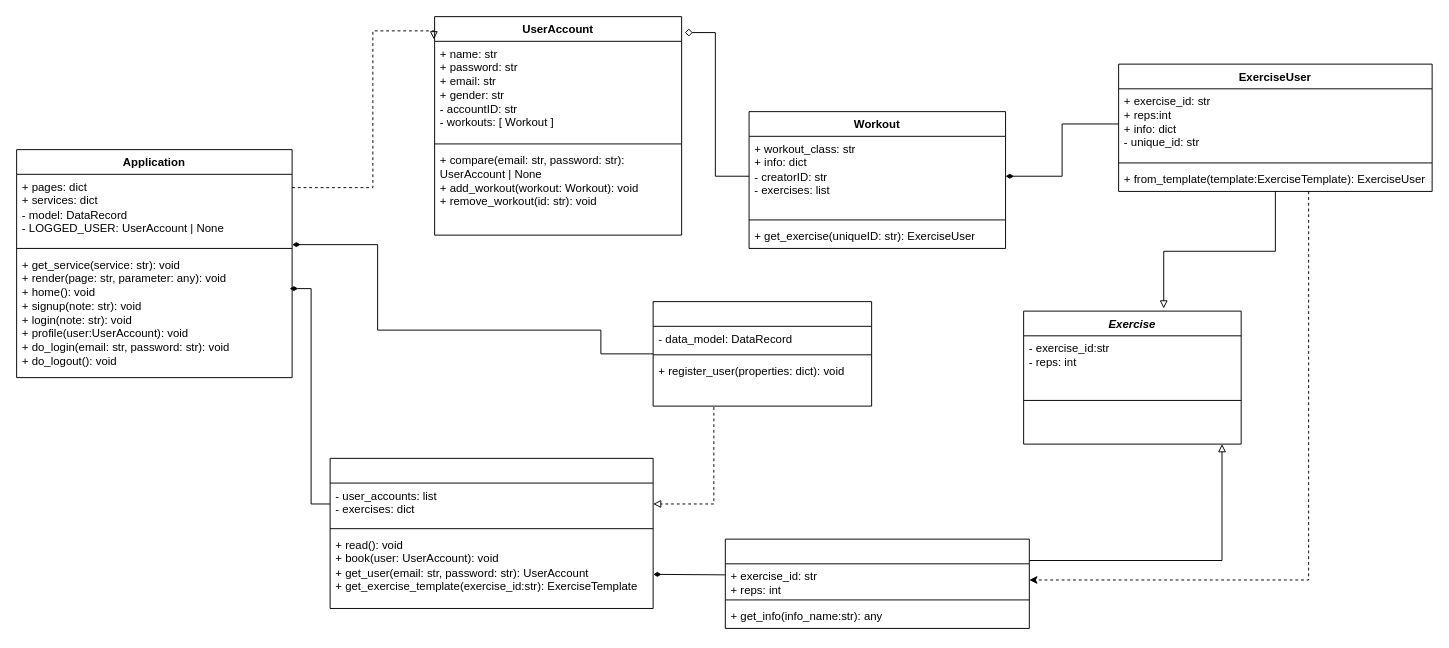
Image size: 1449x648. Some labels were removed from this diagram. Each missing label, with the box of its shape:
DataRecord: (329, 457, 653, 608)
ExerciseTemplate: (724, 538, 1029, 628)
UserService: (652, 301, 872, 406)
